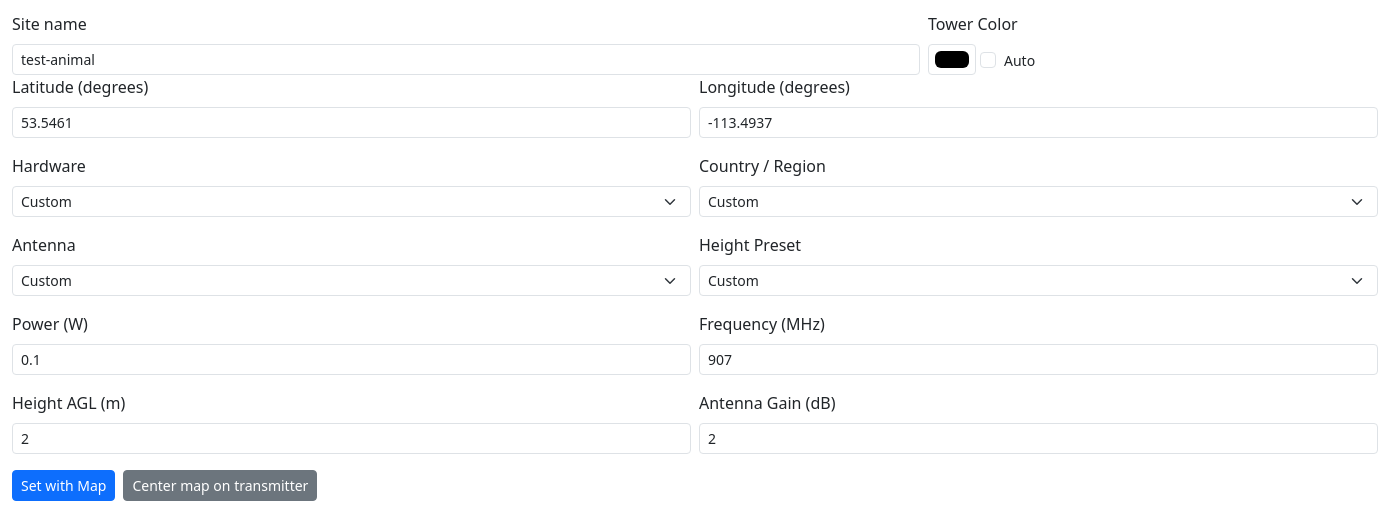
Test: Transmitter.vue › shows mismatch loss badge when antenna preset selected
The image size is (1390, 518).
Select "Ribbed Spring Helical (0 dBi)" in the dropdown labelled "Antenna" at (352, 280), box [12,265,691,296]
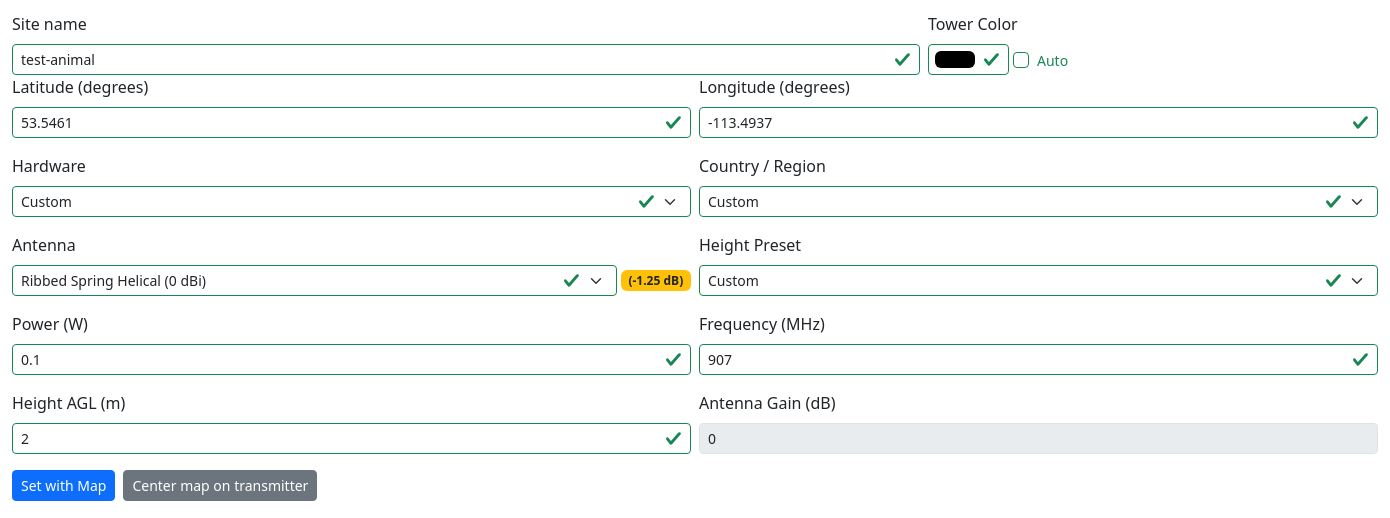
Expected: the text "(-1.25 dB)" is shown, [621,270,691,291]
Expected: the text with class "badge" shows "dB", [628,272,683,288]
